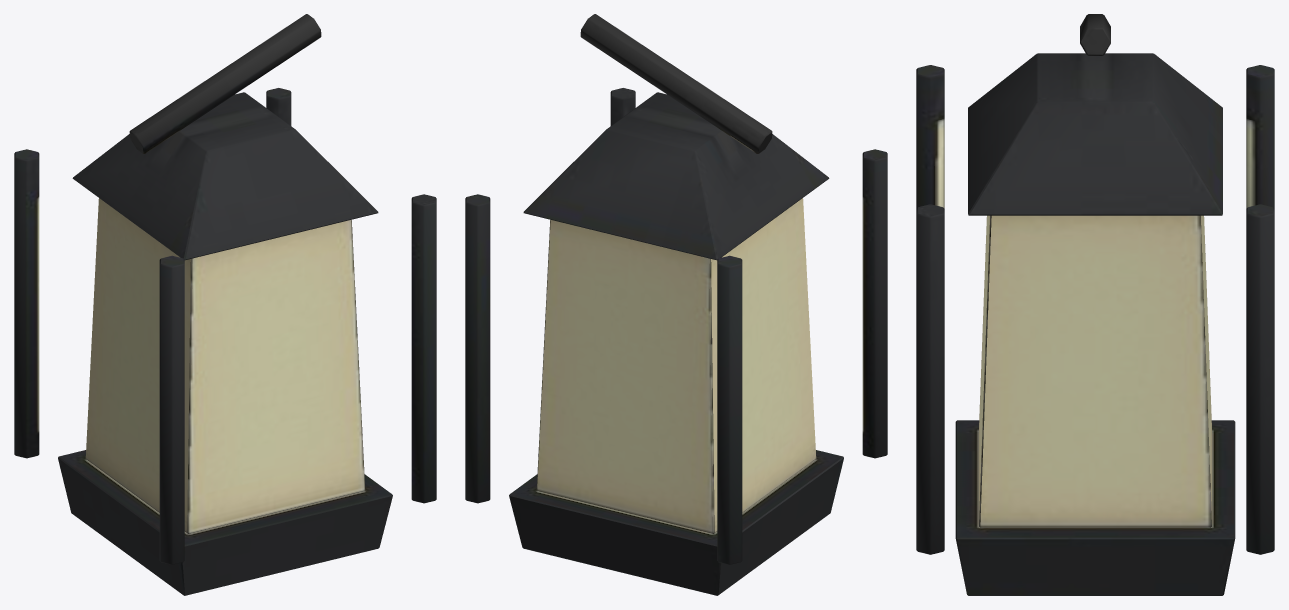
Rendered from IT_torch_lantern.glb.
3 views of the same model, side by side, from view 1: azimuth 30°, elevation 25°; view 2: azimuth 150°, elevation 25°; view 3: azimuth 270°, elevation 25° (orthographic). The views are drawn at different scales.
Visible parts, largest first — view 1: IT_torch_lantern; view 2: IT_torch_lantern; view 3: IT_torch_lantern.
Part boxes in pixels (left/top/right/bottom): IT_torch_lantern: left=14, top=14, right=436, bottom=595; IT_torch_lantern: left=465, top=14, right=887, bottom=595; IT_torch_lantern: left=916, top=14, right=1274, bottom=595.
Bounding box in the file's own units: 0.3096 × 0.5308 × 0.3071.
1 material, 1 textured.
